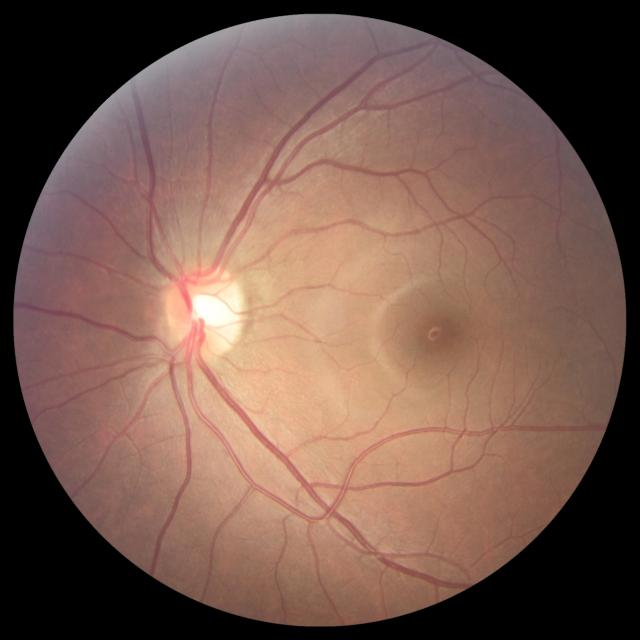OC: (191, 290, 235, 332)
OD: (164, 262, 245, 358)
